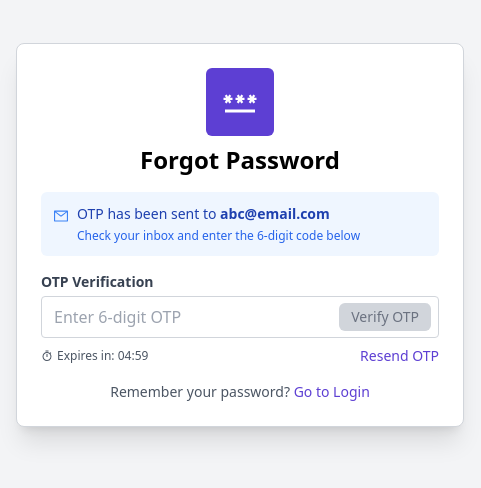
Test: ForgotPassword component › shows error if verifyOTP fails
Type "222222" into the field with placeholder "Enter 6-digit OTP" at (240,317), box top-left (41, 296), bottom-right (439, 338)
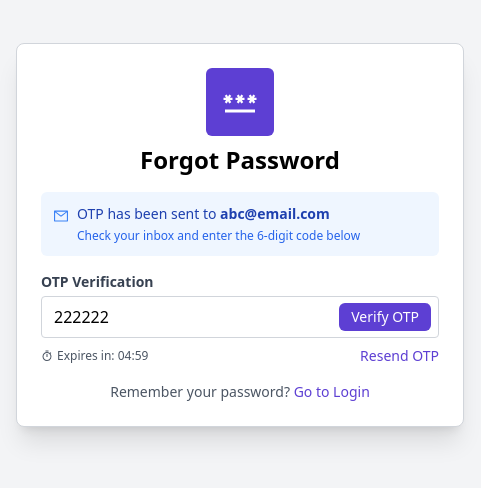
Click the button "Verify OTP" at (385,317), box top-left (339, 303), bottom-right (431, 331)
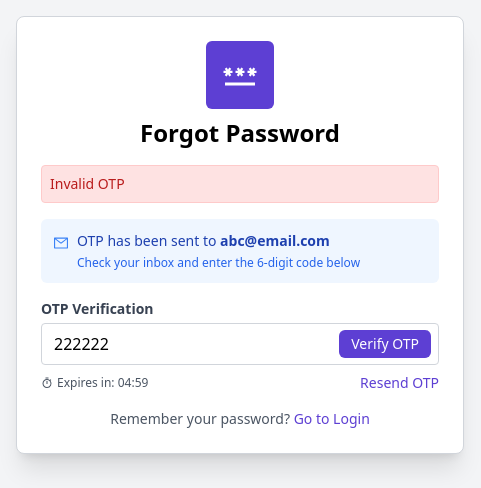
Expected: the text "Invalid OTP" is shown, top-left (41, 165), bottom-right (439, 203)
